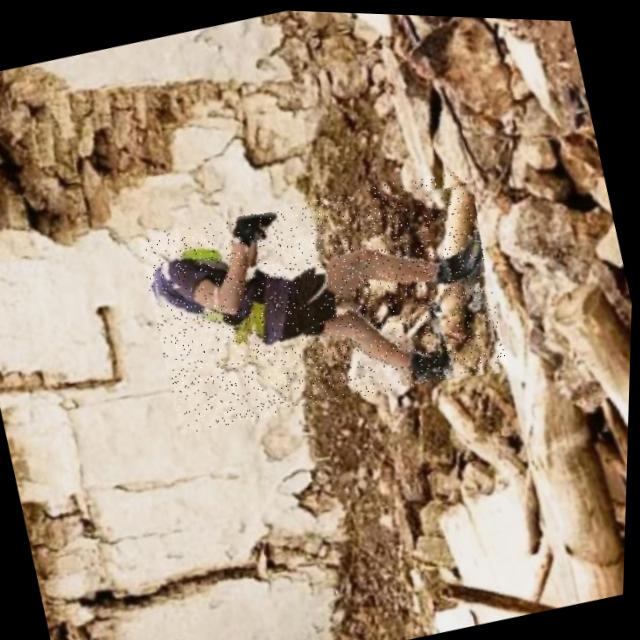Person in Rubble: (134, 153, 515, 441)
